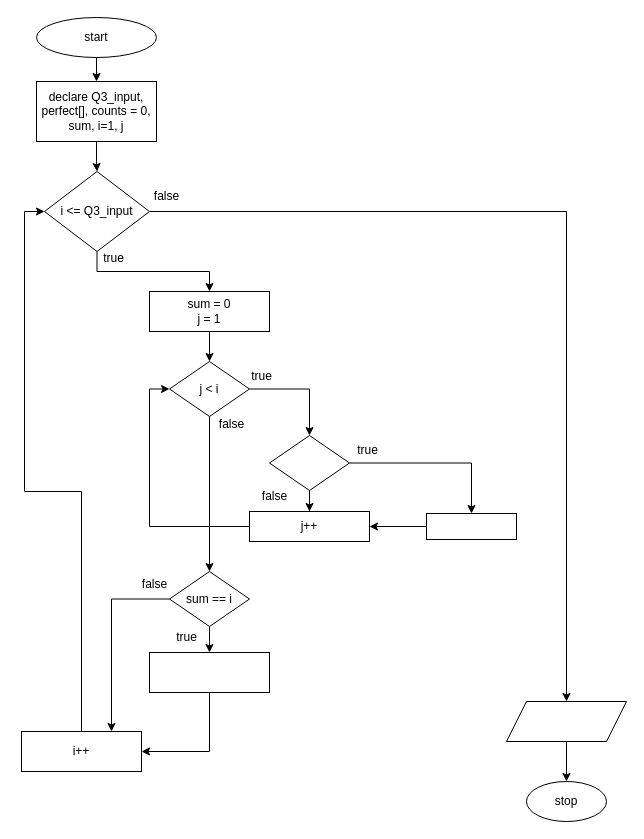
The diagram is 644 pixels wide and 839 high, and some of its shapes have lost their labels. The shapes that lost their labels are listed below. From the top down, each one's centre as x and y in pixels, then its label:
At [309,462]: "i % j == 0".
At [471,526]: "sum += j".
At [209,672]: "perfect[counts] = i counts++".
At [566,721]: "return counts".
